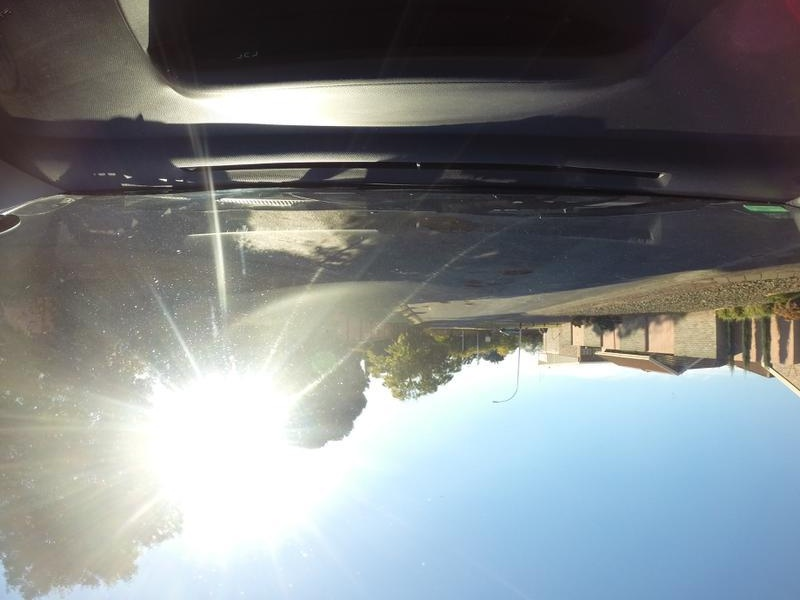pothole: (410, 214, 476, 237), (503, 268, 532, 278), (465, 280, 494, 290), (466, 298, 478, 309), (423, 302, 437, 310)
